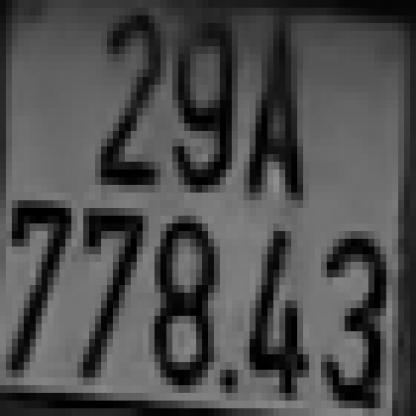2: (95, 16, 166, 192)
3: (315, 231, 380, 393)
4: (244, 223, 303, 393)
7: (6, 208, 71, 370), (83, 208, 143, 370)
8: (155, 208, 208, 377)
9: (172, 16, 226, 192)
A: (238, 15, 303, 208)
